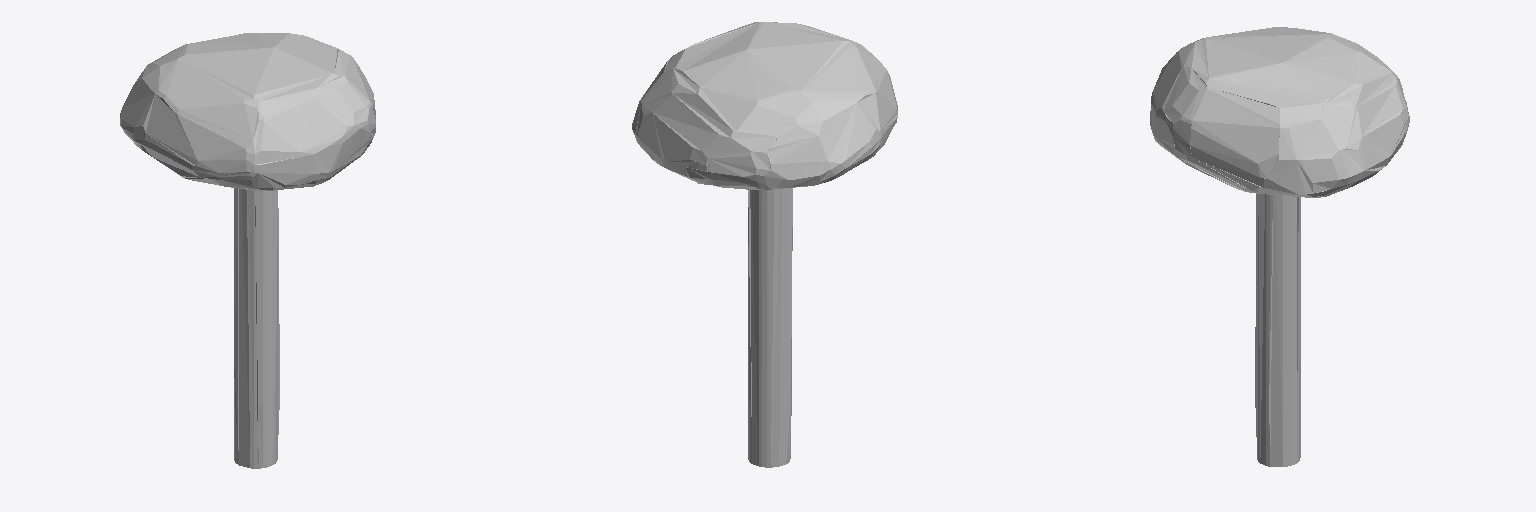
Rendered from shroom2.obj.
3 renders of one model, left to right at view 1: azimuth 30°, elevation 25°; view 2: azimuth 150°, elevation 25°; view 3: azimuth 270°, elevation 25°, orthographic.
Visible parts, largest first — view 1: Sphere; view 2: Sphere; view 3: Sphere.
Part boxes in pixels (left/top/right/bottom): Sphere: left=120, top=33, right=375, bottom=468; Sphere: left=632, top=22, right=897, bottom=467; Sphere: left=1150, top=27, right=1409, bottom=466.
Size of the model in its own units: 87.22 by 150 by 87.02.